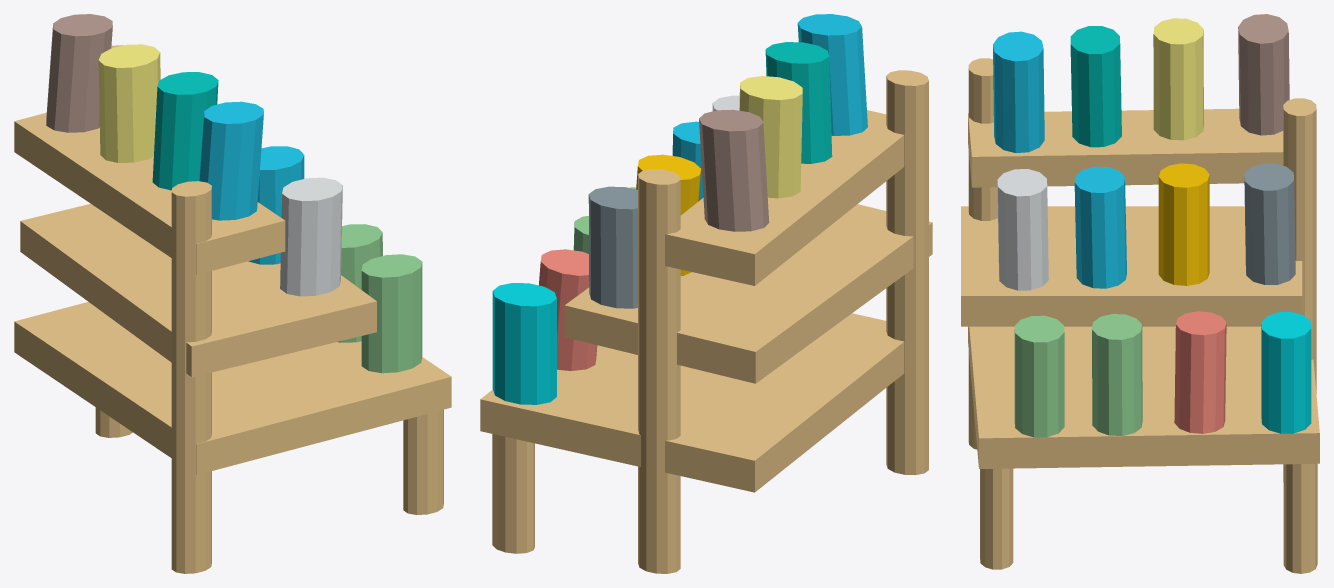
Rendered from cans.fbx.
3 views of the same model, side by side, from view 1: azimuth 30°, elevation 25°; view 2: azimuth 150°, elevation 25°; view 3: azimuth 270°, elevation 25° (orthographic). The views are drawn at different scales.
Visible parts, largest first — view 1: pasted__mesh_1566806189, pasted__mesh_683600944, pasted__mesh_1531839230, pasted__mesh_1451359220, pasted__mesh_206371442, pasted__mesh_1212190907, pasted__mesh_632492758, pasted__mesh_2087768841, pasted__mesh_250248861, pasted__mesh_1565662704, pasted__mesh_843568990, pasted__mesh_200836703 (+2 smaller); view 2: pasted__mesh_1566806189, pasted__mesh_683600944, pasted__mesh_1259159936, pasted__mesh_1451359220, pasted__mesh_1531839230, pasted__mesh_250248861, pasted__mesh_2066854420, pasted__mesh_1538506553, pasted__mesh_1212190907, pasted__mesh_632492758, pasted__mesh_1001463061, pasted__mesh_1565662704 (+3 smaller); view 3: pasted__mesh_1566806189, pasted__mesh_683600944, pasted__mesh_1451359220, pasted__mesh_205660881, pasted__mesh_74309079, pasted__mesh_200836703, pasted__mesh_1212190907, pasted__mesh_882377701, pasted__mesh_2087768841, pasted__mesh_2066854420, pasted__mesh_632492758, pasted__mesh_1538506553 (+7 smaller).
Part boxes in pixels (bbox=[...]): pasted__mesh_1566806189: bbox=[14, 302, 451, 474]; pasted__mesh_683600944: bbox=[20, 203, 376, 377]; pasted__mesh_1531839230: bbox=[171, 181, 211, 573]; pasted__mesh_1451359220: bbox=[14, 112, 285, 274]; pasted__mesh_206371442: bbox=[280, 177, 342, 296]; pasted__mesh_1212190907: bbox=[98, 44, 160, 162]; pasted__mesh_632492758: bbox=[199, 101, 263, 220]; pasted__mesh_2087768841: bbox=[361, 254, 422, 373]; pasted__mesh_250248861: bbox=[46, 14, 112, 132]; pasted__mesh_1565662704: bbox=[152, 72, 218, 190]; pasted__mesh_843568990: bbox=[403, 409, 443, 514]; pasted__mesh_200836703: bbox=[248, 146, 304, 264]; pasted__mesh_1566806189: bbox=[480, 313, 904, 492]; pasted__mesh_683600944: bbox=[564, 204, 932, 383]; pasted__mesh_1259159936: bbox=[638, 169, 680, 573]; pasted__mesh_1451359220: bbox=[665, 110, 904, 285]; pasted__mesh_1531839230: bbox=[886, 70, 928, 475]; pasted__mesh_250248861: bbox=[699, 109, 769, 231]; pasted__mesh_2066854420: bbox=[492, 283, 556, 404]; pasted__mesh_1538506553: bbox=[588, 186, 637, 308]; pasted__mesh_1212190907: bbox=[739, 76, 802, 198]; pasted__mesh_632492758: bbox=[797, 14, 867, 135]; pasted__mesh_1001463061: bbox=[492, 434, 534, 553]; pasted__mesh_1565662704: bbox=[765, 42, 832, 163]; pasted__mesh_1566806189: bbox=[968, 326, 1319, 468]; pasted__mesh_683600944: bbox=[961, 206, 1302, 326]; pasted__mesh_1451359220: bbox=[968, 108, 1283, 187]; pasted__mesh_205660881: bbox=[1158, 163, 1209, 285]; pasted__mesh_74309079: bbox=[1174, 311, 1226, 433]; pasted__mesh_200836703: bbox=[1074, 166, 1126, 288]; pasted__mesh_1212190907: bbox=[1153, 18, 1203, 140]; pasted__mesh_882377701: bbox=[1092, 314, 1142, 435]; pasted__mesh_2087768841: bbox=[1014, 315, 1064, 437]; pasted__mesh_2066854420: bbox=[1261, 312, 1311, 433]; pasted__mesh_632492758: bbox=[993, 31, 1044, 152]; pasted__mesh_1538506553: bbox=[1244, 163, 1295, 284].
Bounding box in the file's own units: 14.57 × 22.6 × 16.54.
